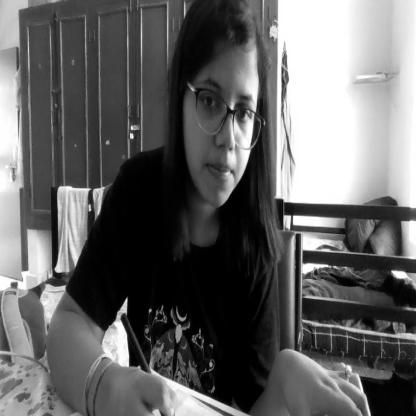Normal: (179, 1, 264, 220)
